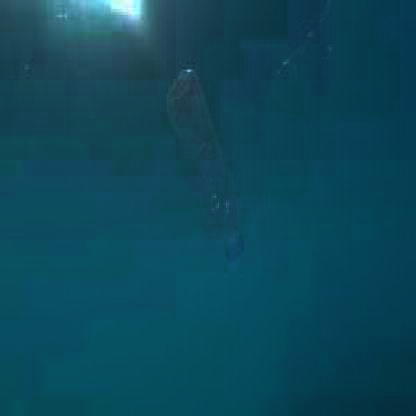pbottle: (157, 64, 252, 265)
